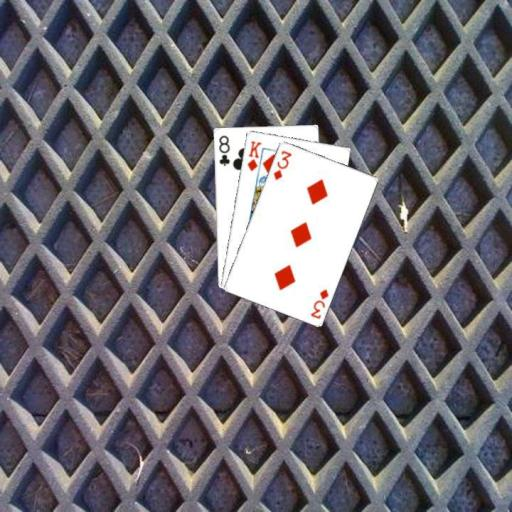3D: (270, 148, 293, 182), (307, 286, 330, 320)
8C: (216, 132, 231, 167)
KD: (244, 137, 262, 173)
